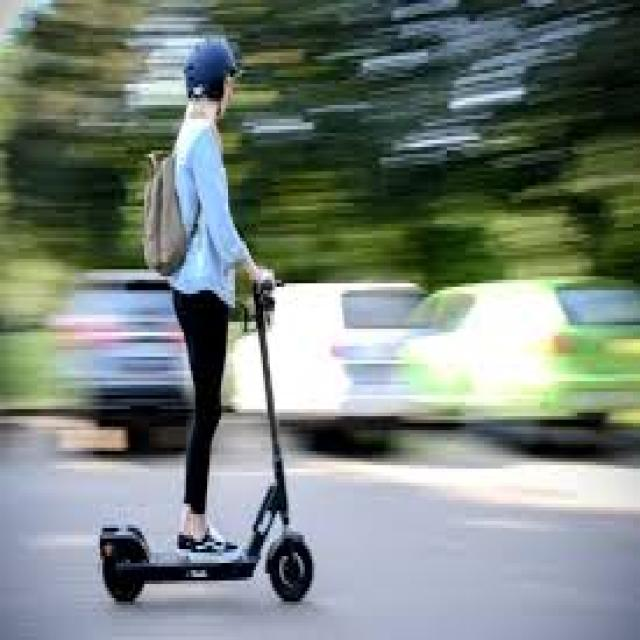helmet: (90, 28, 322, 610)
